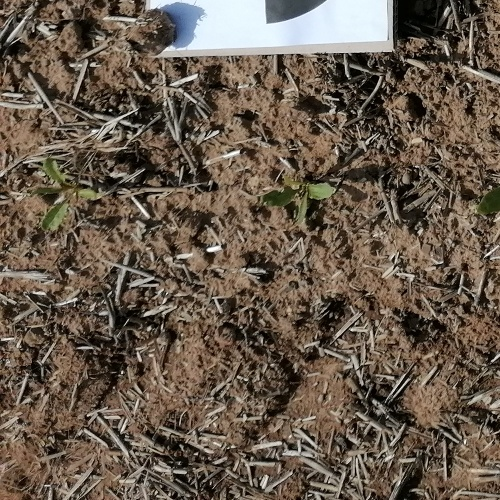beet: (260, 180, 335, 225), (40, 156, 75, 231), (475, 185, 500, 218)
